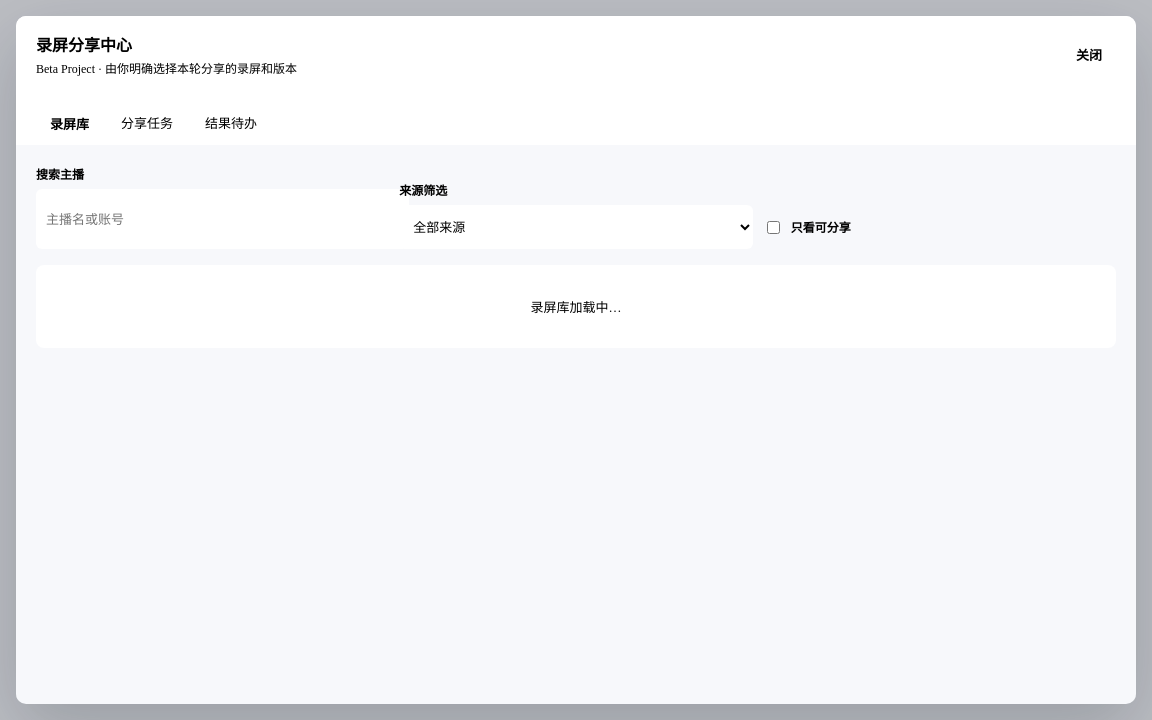
Test case: AdmissionShareCenter › ignores stale task pages after a project switch
Click the tab "分享任务": (147, 123) [107,101,187,145]
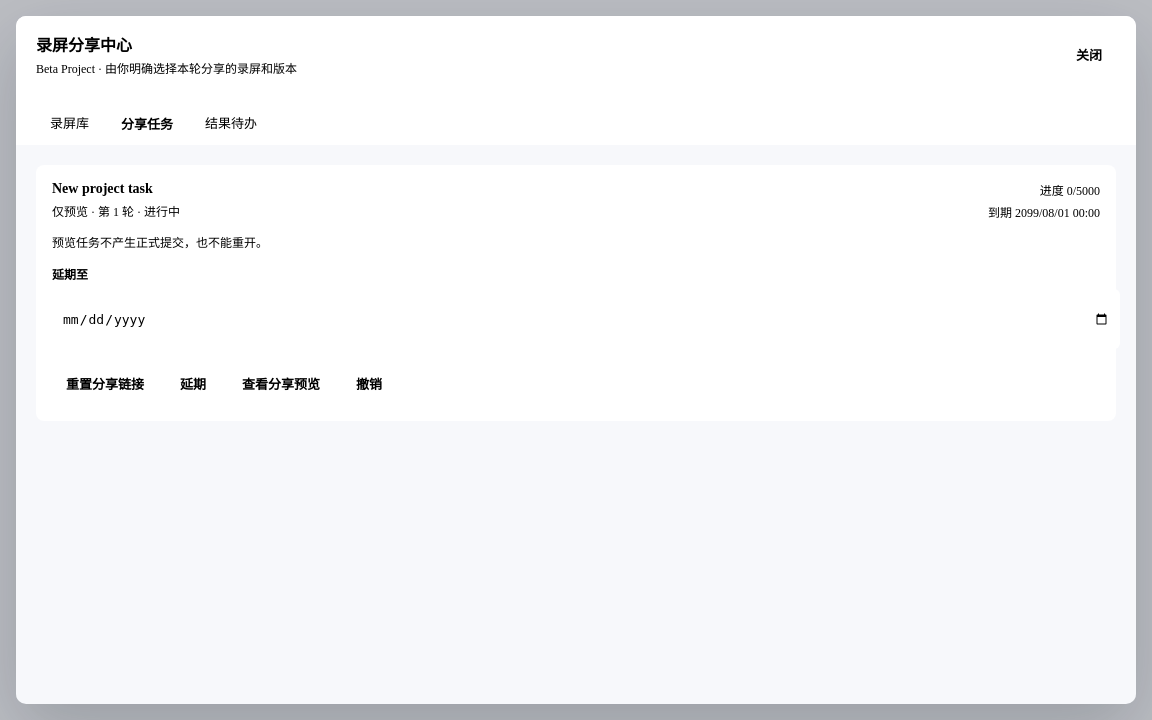
expect the text "New project task" is shown: met, box [52,181,153,196]
